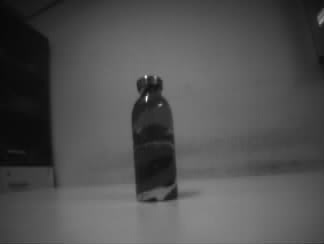Bottle: (129, 74, 178, 201)
